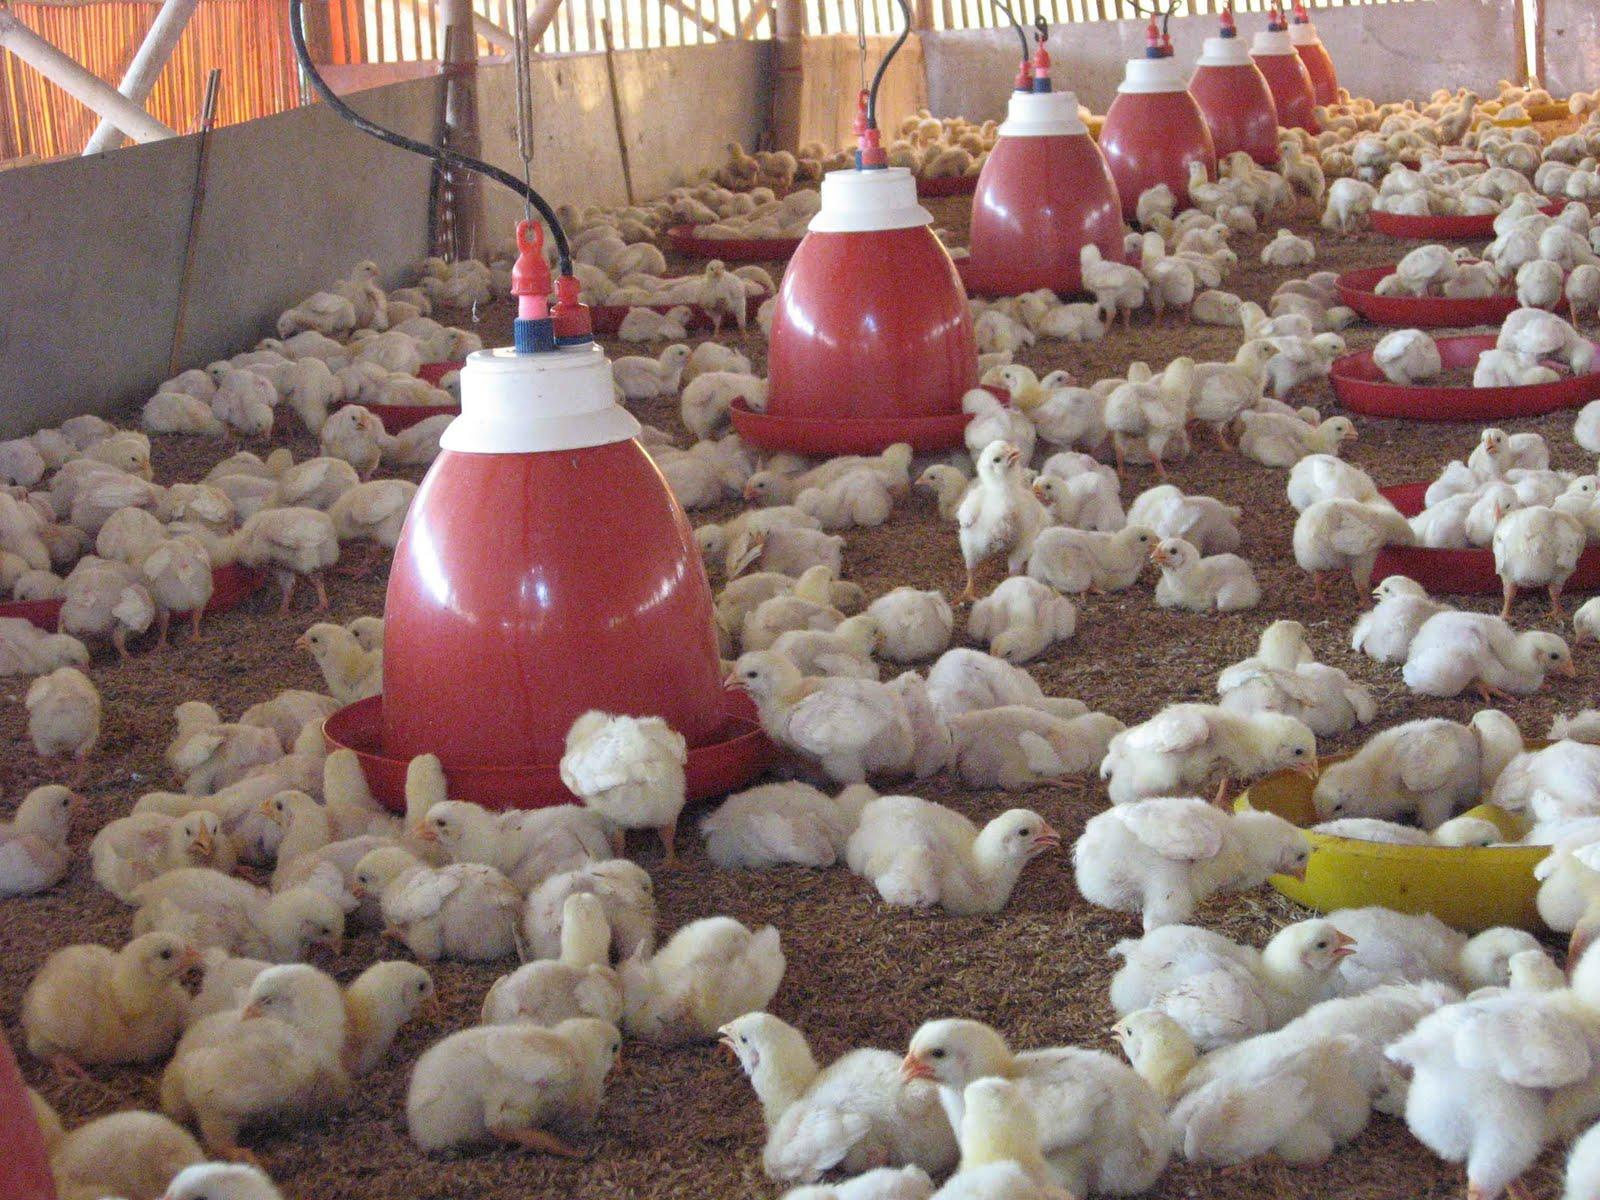chicken: (905, 1017, 1165, 1190), (718, 1002, 932, 1187), (1110, 1007, 1372, 1157), (412, 1010, 627, 1152), (171, 971, 343, 1145), (1081, 800, 1313, 920), (30, 933, 210, 1082), (1112, 920, 1356, 1025), (607, 918, 792, 1046), (729, 658, 942, 766), (1105, 697, 1319, 803), (849, 798, 1060, 905), (1319, 715, 1503, 827), (564, 712, 690, 860), (144, 865, 348, 953), (425, 798, 605, 892), (704, 773, 881, 868), (1403, 605, 1576, 696), (486, 895, 607, 1020), (260, 790, 398, 887), (93, 811, 233, 897), (220, 511, 343, 609), (957, 440, 1037, 568), (1148, 529, 1261, 610), (68, 557, 152, 661), (978, 575, 1072, 661), (1351, 577, 1437, 661), (34, 663, 105, 765), (874, 582, 955, 659), (784, 613, 882, 676)
